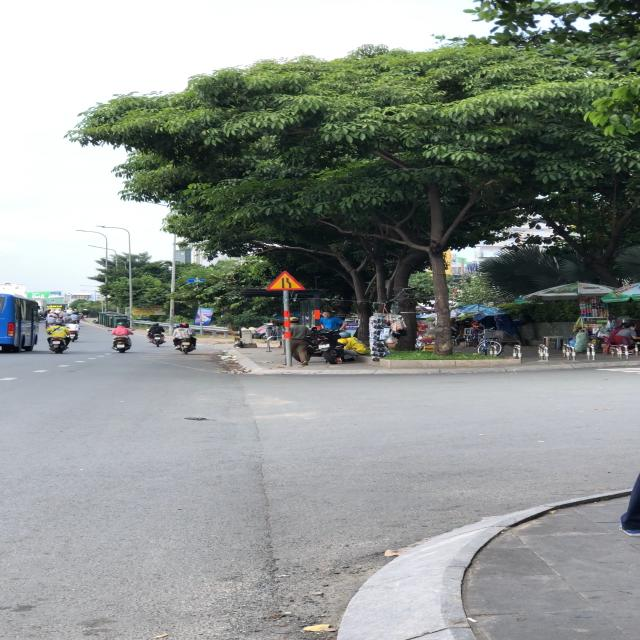Bien bao duong bi thu hep: (265, 268, 310, 291)
